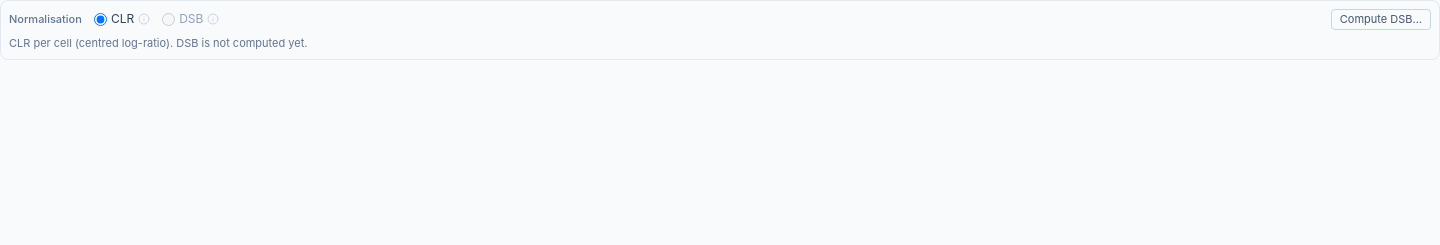
ProteinNormalisation › without empty droplets says why and runs the no-empty-droplet mode; errors are the backend's
The image size is (1440, 245).
Click the button "Compute DSB…". click: (1381, 19)
box: [1331,9,1431,30]
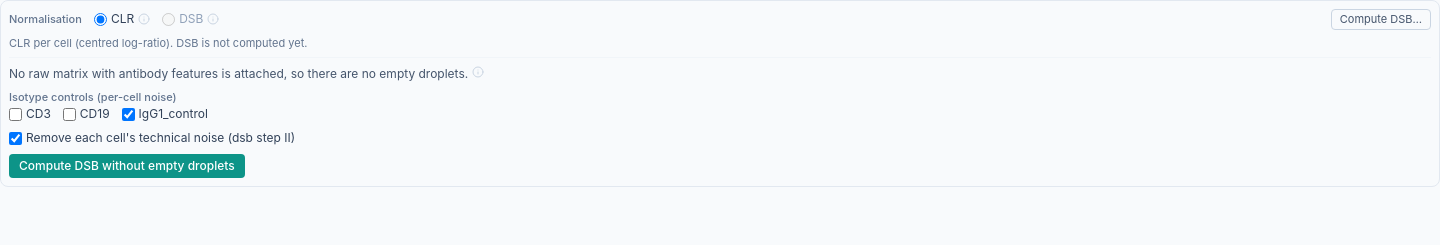
Result: the element with test id "dsb-no-empty" is shown at [9,66,484,81]
Result: the element with test id "dsb-no-empty" shows "No raw matrix with antibody features" at [9,66,468,81]
Click the checkbox labelled "IgG1_control". click: (128, 114)
box: [122,108,135,121]
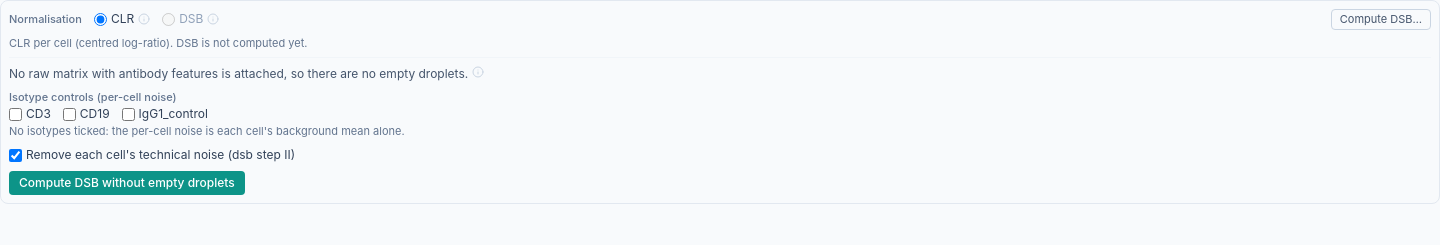
Result: the text "No isotypes ticked" is shown at [9,124,405,138]
Click the button "Compute DSB without empty droplets". click: (127, 183)
box: [9,171,245,195]
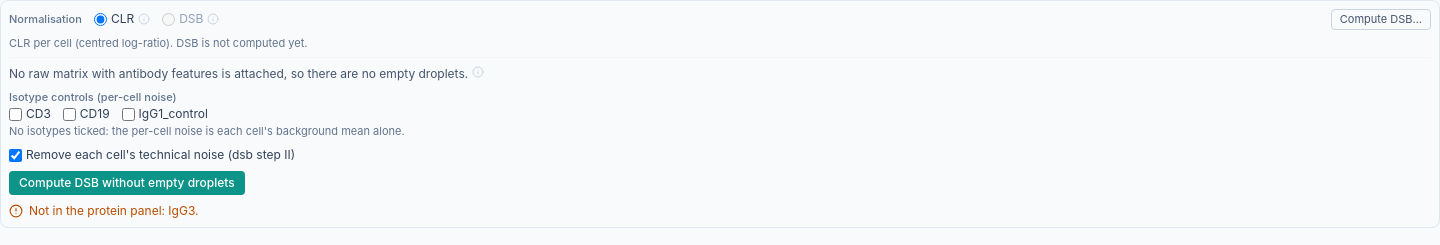
Result: the message "Not in the protein panel: IgG3." is shown at [9,203,198,218]
Result: the message reads "Not in the protein panel: IgG3." at [29,203,198,218]
